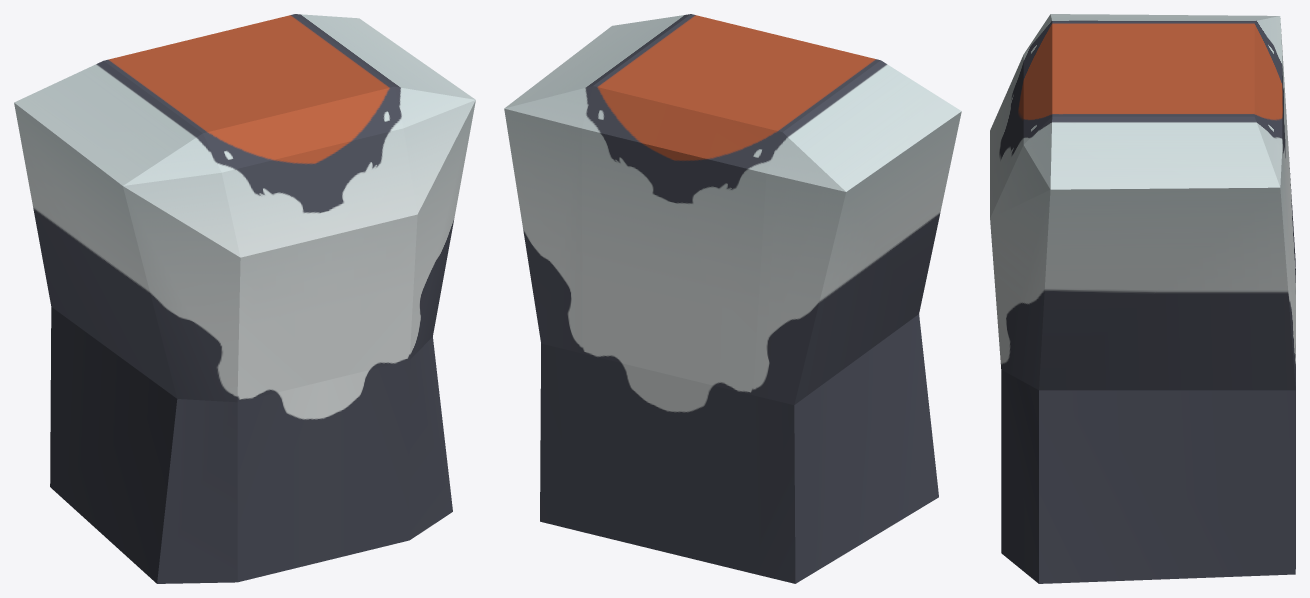
The model's file is Melee Zombie Male Shirt.fbx.
3 views of the same model, side by side, from view 1: azimuth 30°, elevation 25°; view 2: azimuth 150°, elevation 25°; view 3: azimuth 270°, elevation 25° (orthographic). The views are drawn at different scales.
Parts seen in each view (by area): view 1: Shirt.001; view 2: Shirt.001; view 3: Shirt.001.
Part boxes in pixels (x1=…): Shirt.001: x1=14, y1=14, x2=475, y2=583; Shirt.001: x1=504, y1=14, x2=961, y2=583; Shirt.001: x1=990, y1=14, x2=1295, y2=583.
Size of the model in its own units: 32.79 by 38.43 by 24.14.
